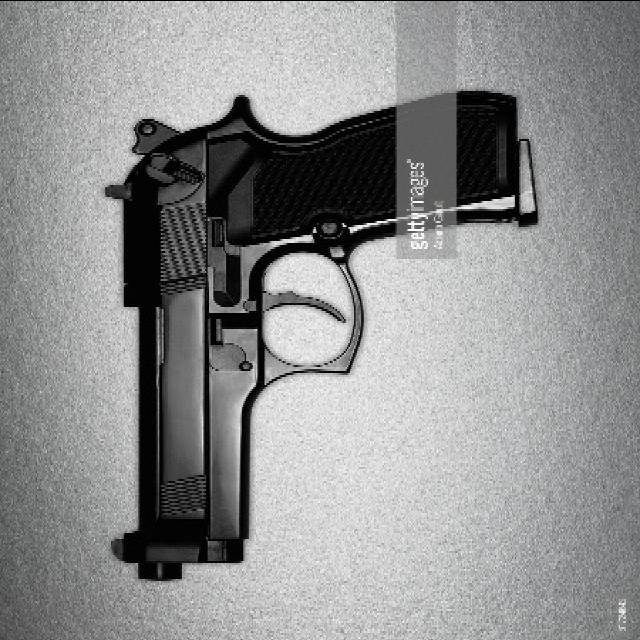handgun: (101, 87, 527, 589)
